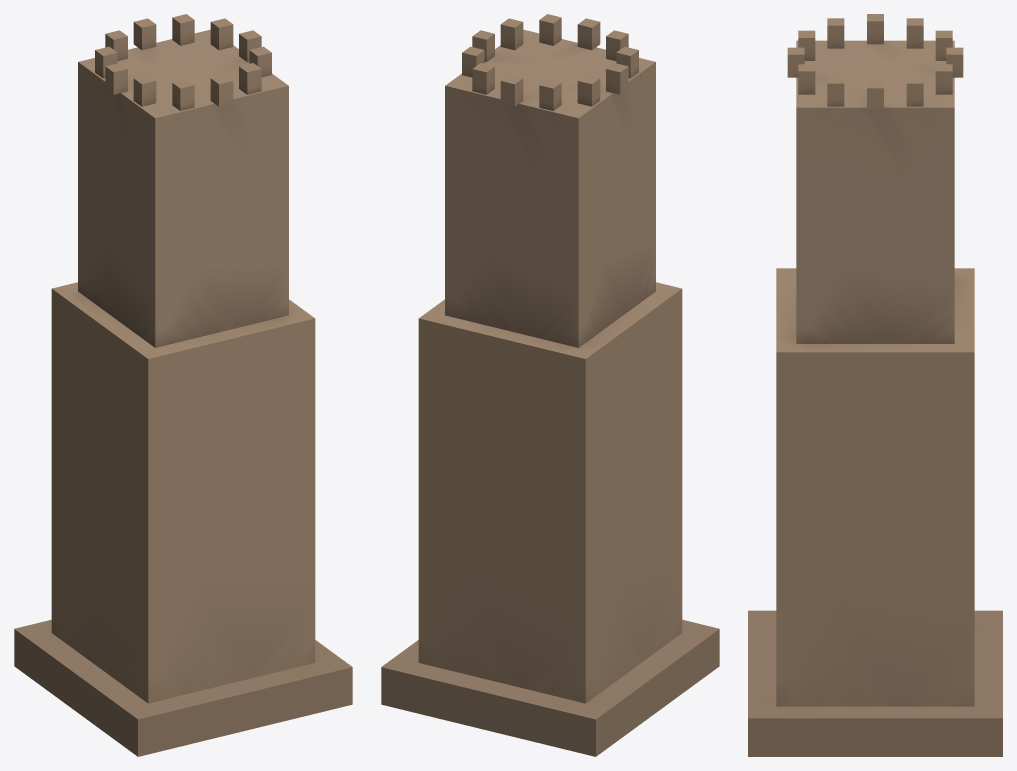
File: torre-delle-milizie.glb
3 views of the same model, side by side, from view 1: azimuth 30°, elevation 25°; view 2: azimuth 150°, elevation 25°; view 3: azimuth 270°, elevation 25° (orthographic). The views are drawn at different scales.
Visible parts, largest first — view 1: p1_tower, p2_top, p0_base; view 2: p1_tower, p2_top, p0_base; view 3: p1_tower, p2_top, p0_base.
Part boxes in pixels (x1,y1,x2,y2): p1_tower: [51, 282, 315, 703]; p2_top: [78, 14, 288, 347]; p0_base: [14, 619, 352, 756]; p1_tower: [418, 282, 682, 703]; p2_top: [445, 14, 655, 347]; p0_base: [381, 619, 719, 756]; p1_tower: [776, 268, 974, 706]; p2_top: [787, 14, 963, 343]; p0_base: [748, 610, 1002, 756].
Bounding box in the file's own units: 18 × 50.8 × 18.
